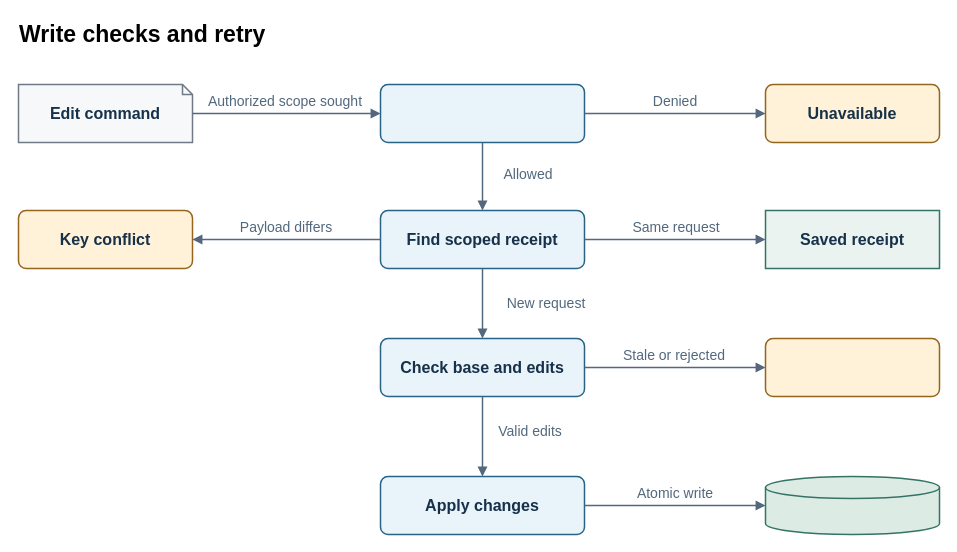
The diagram is 957 pixels wide and 552 high, and some of its shapes have lost their labels. Here are the shapes that lost their labels. From the top down, the centre of each, then its label:
At point 482,113: "Check current access".
At point 852,367: "Conflict or invalid".
At point 852,505: "Draft revision and receipt".
